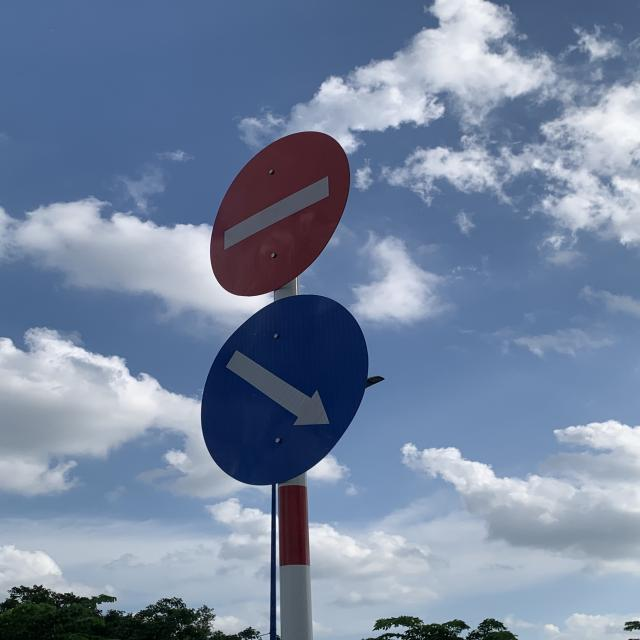Cam_Di_Nguoc_Chieu: (208, 131, 354, 297)
Chi_Huong_Di_Phai: (200, 294, 372, 488)
